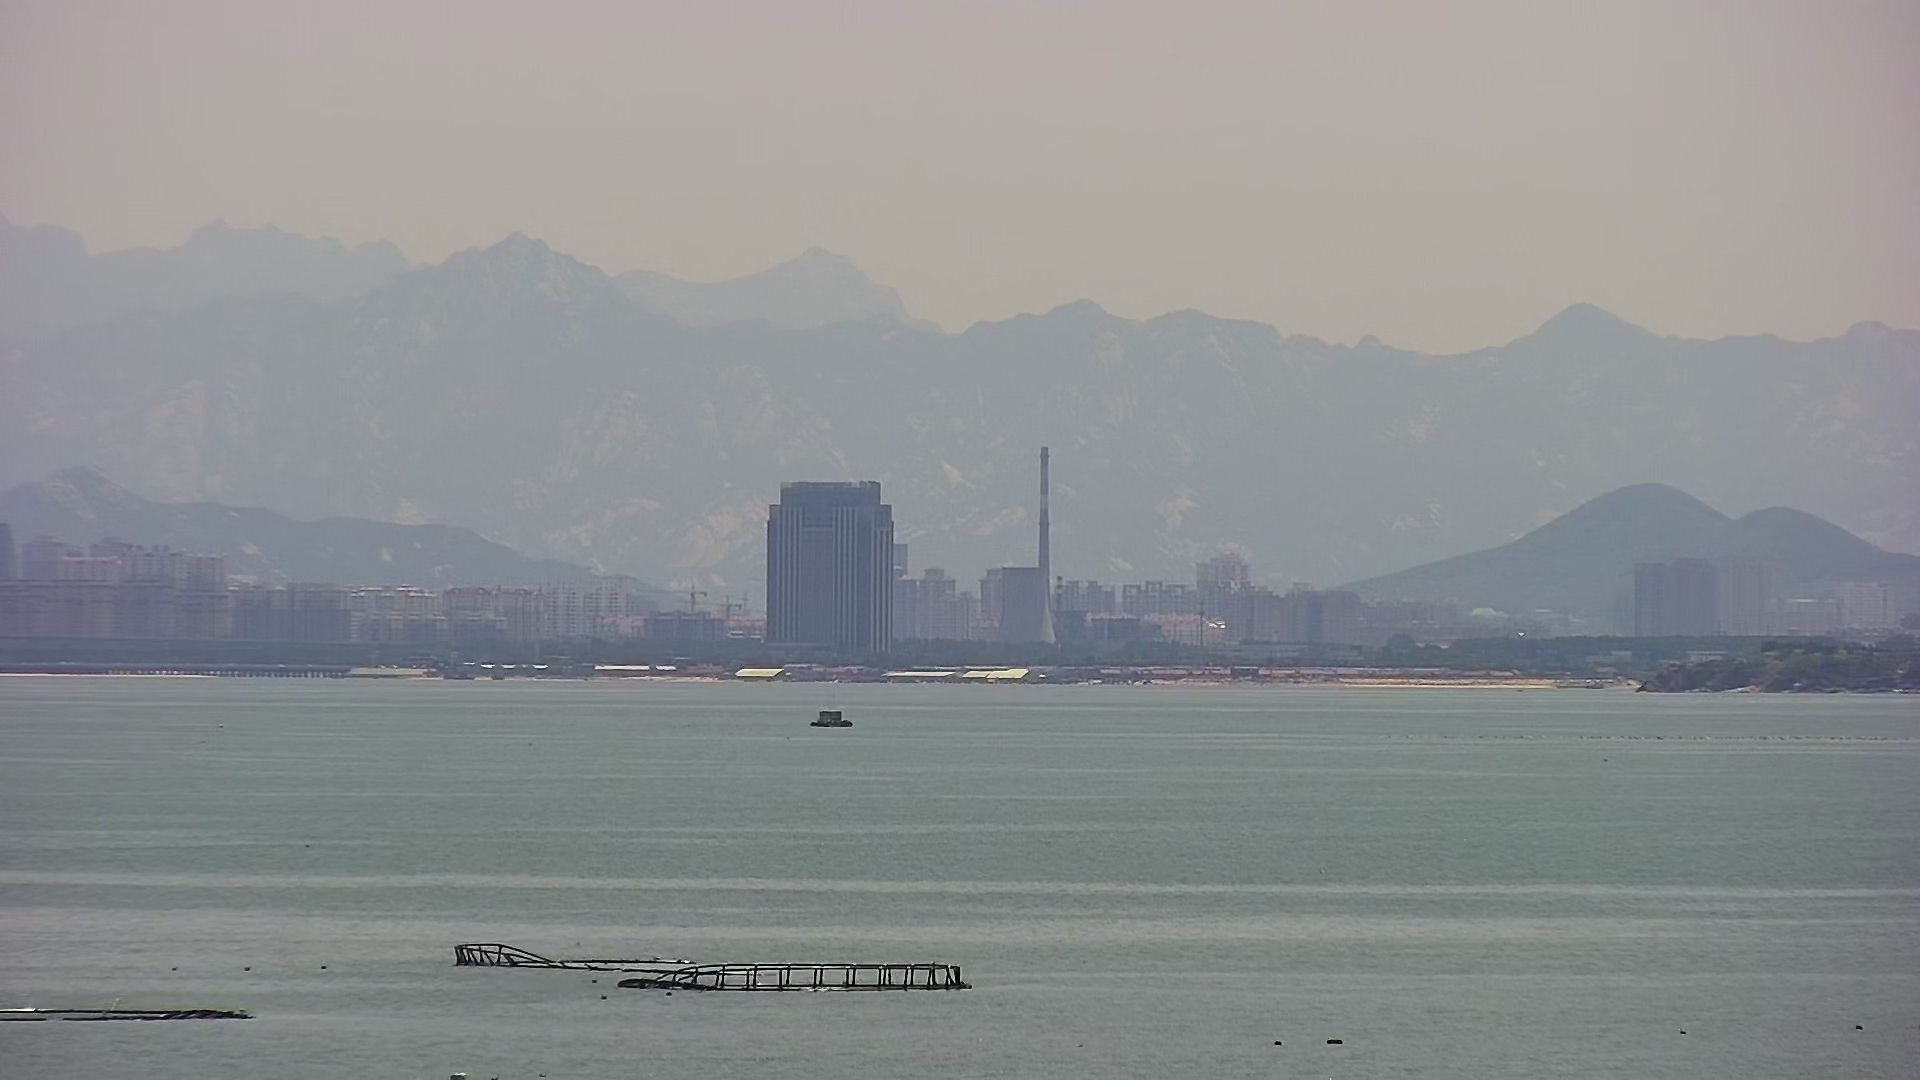platform: (810, 704, 855, 731)
rubbish: (444, 942, 973, 1000), (1, 1001, 266, 1030)
